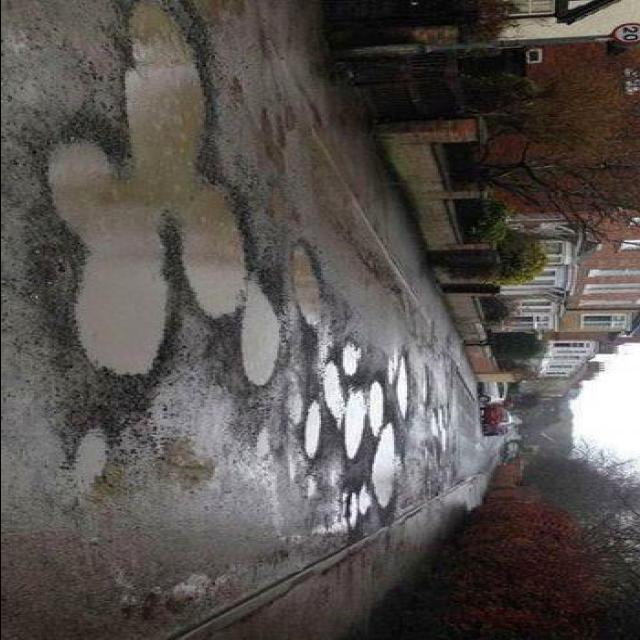lubang: (34, 126, 192, 381), (112, 0, 222, 172), (104, 540, 306, 633), (138, 358, 260, 494), (178, 168, 258, 322), (230, 281, 288, 385), (285, 242, 333, 324), (250, 102, 300, 174), (259, 172, 317, 232), (70, 419, 116, 494), (372, 418, 408, 508), (340, 387, 373, 461), (338, 479, 381, 535), (422, 402, 460, 463), (294, 394, 324, 466), (418, 458, 470, 498), (362, 377, 392, 433), (320, 359, 342, 423), (300, 518, 340, 552), (393, 352, 413, 419), (334, 339, 366, 376), (417, 364, 434, 412)
